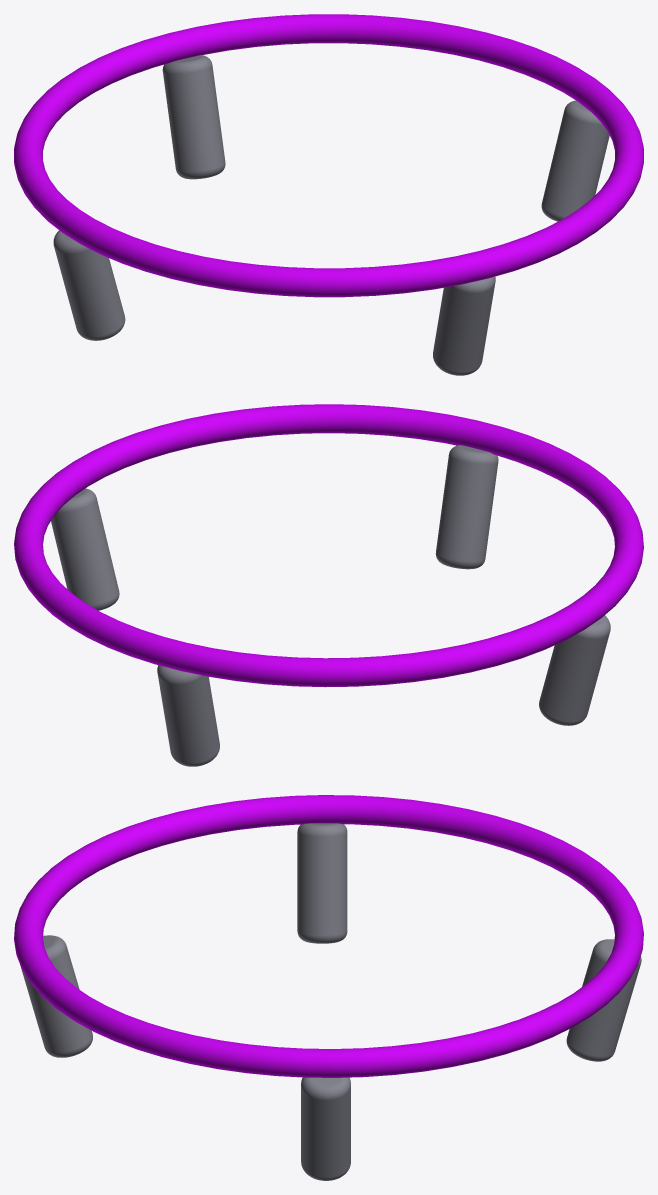
File: LightFixture.obj
3 renders of one model, top to bottom at view 1: azimuth 30°, elevation 25°; view 2: azimuth 150°, elevation 25°; view 3: azimuth 270°, elevation 25°, orthographic.
Parts seen in each view (by area): view 1: 004_Torus, 001_Cylinder_2, 003_Cylinder, 002_Cylinder_3, 000_Cylinder_1; view 2: 004_Torus, 000_Cylinder_1, 003_Cylinder, 002_Cylinder_3, 001_Cylinder_2; view 3: 004_Torus, 002_Cylinder_3, 003_Cylinder, 001_Cylinder_2, 000_Cylinder_1.
Part boxes in pixels (x1=…): 004_Torus: x1=14, y1=14, x2=643, y2=297; 001_Cylinder_2: x1=162, y1=55, x2=225, y2=179; 003_Cylinder: x1=541, y1=100, x2=609, y2=221; 002_Cylinder_3: x1=53, y1=230, x2=125, y2=340; 000_Cylinder_1: x1=433, y1=276, x2=495, y2=375; 004_Torus: x1=14, y1=404, x2=643, y2=687; 000_Cylinder_1: x1=435, y1=445, x2=498, y2=569; 003_Cylinder: x1=51, y1=488, x2=119, y2=610; 002_Cylinder_3: x1=539, y1=615, x2=610, y2=725; 001_Cylinder_2: x1=157, y1=665, x2=219, y2=766; 004_Torus: x1=14, y1=795, x2=643, y2=1077; 002_Cylinder_3: x1=297, y1=823, x2=347, y2=943; 003_Cylinder: x1=301, y1=1077, x2=350, y2=1180; 001_Cylinder_2: x1=566, y1=939, x2=641, y2=1061; 000_Cylinder_1: x1=20, y1=935, x2=92, y2=1057.
Size of the model in its own units: 13783 by 3221 by 13563.
